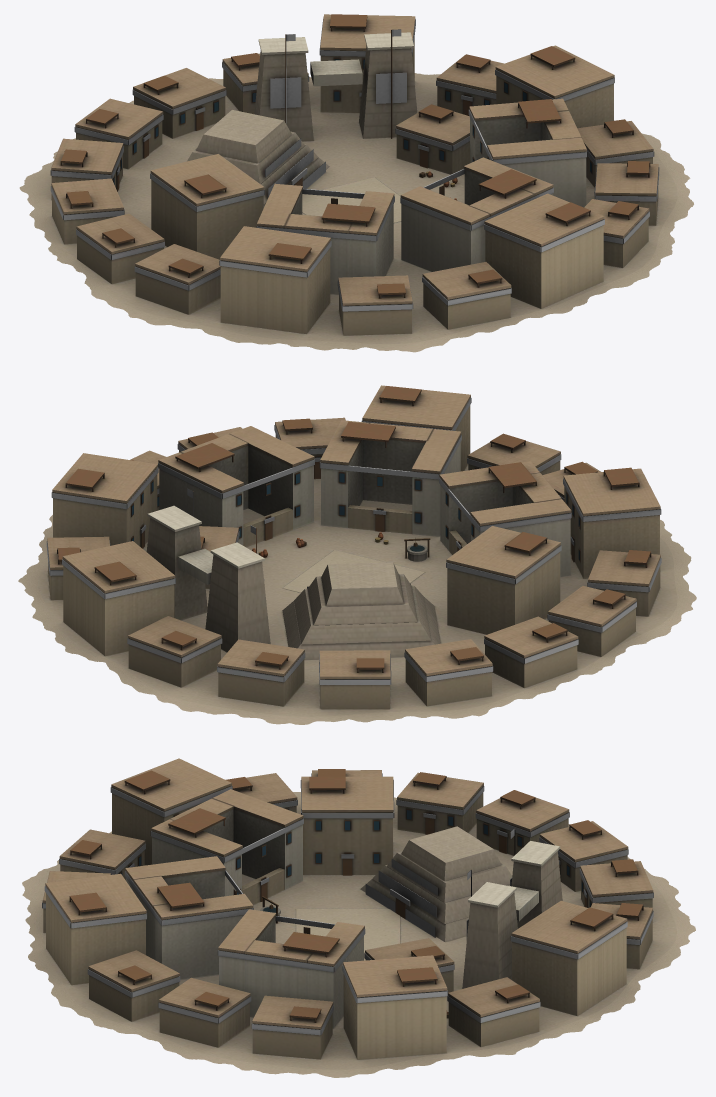
The model's file is bronze-town-big-b-nile.glb.
The picture shows the model from 3 angles, top to bottom: view 1: azimuth 30°, elevation 25°; view 2: azimuth 150°, elevation 25°; view 3: azimuth 270°, elevation 25°; orthographic projection.
Visible parts, largest first — view 1: LOD0; view 2: LOD0; view 3: LOD0.
Boxes of the visible parts, <box> form: LOD0: <box>19,14,693,352</box>; LOD0: <box>18,385,696,724</box>; LOD0: <box>22,758,695,1077</box>.
Size of what is drawn, in the model's own units: 8.02 by 1.42 by 7.96.
3 materials, 3 textured.
